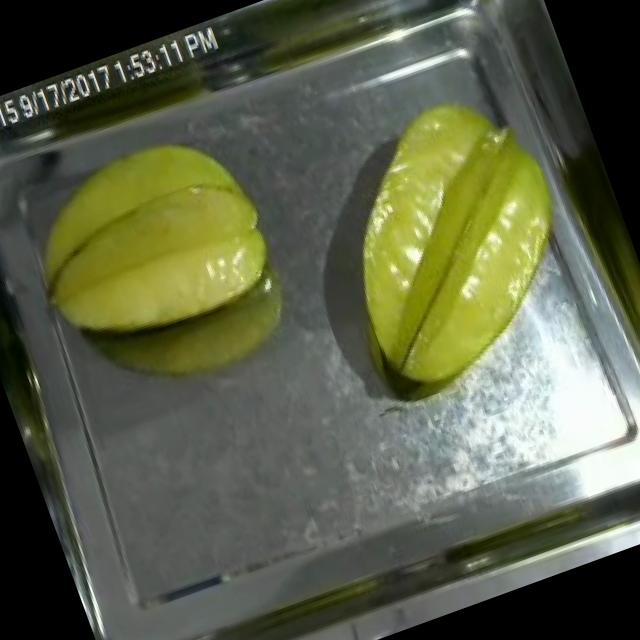fruit: (288, 60, 619, 419), (0, 101, 301, 376)
